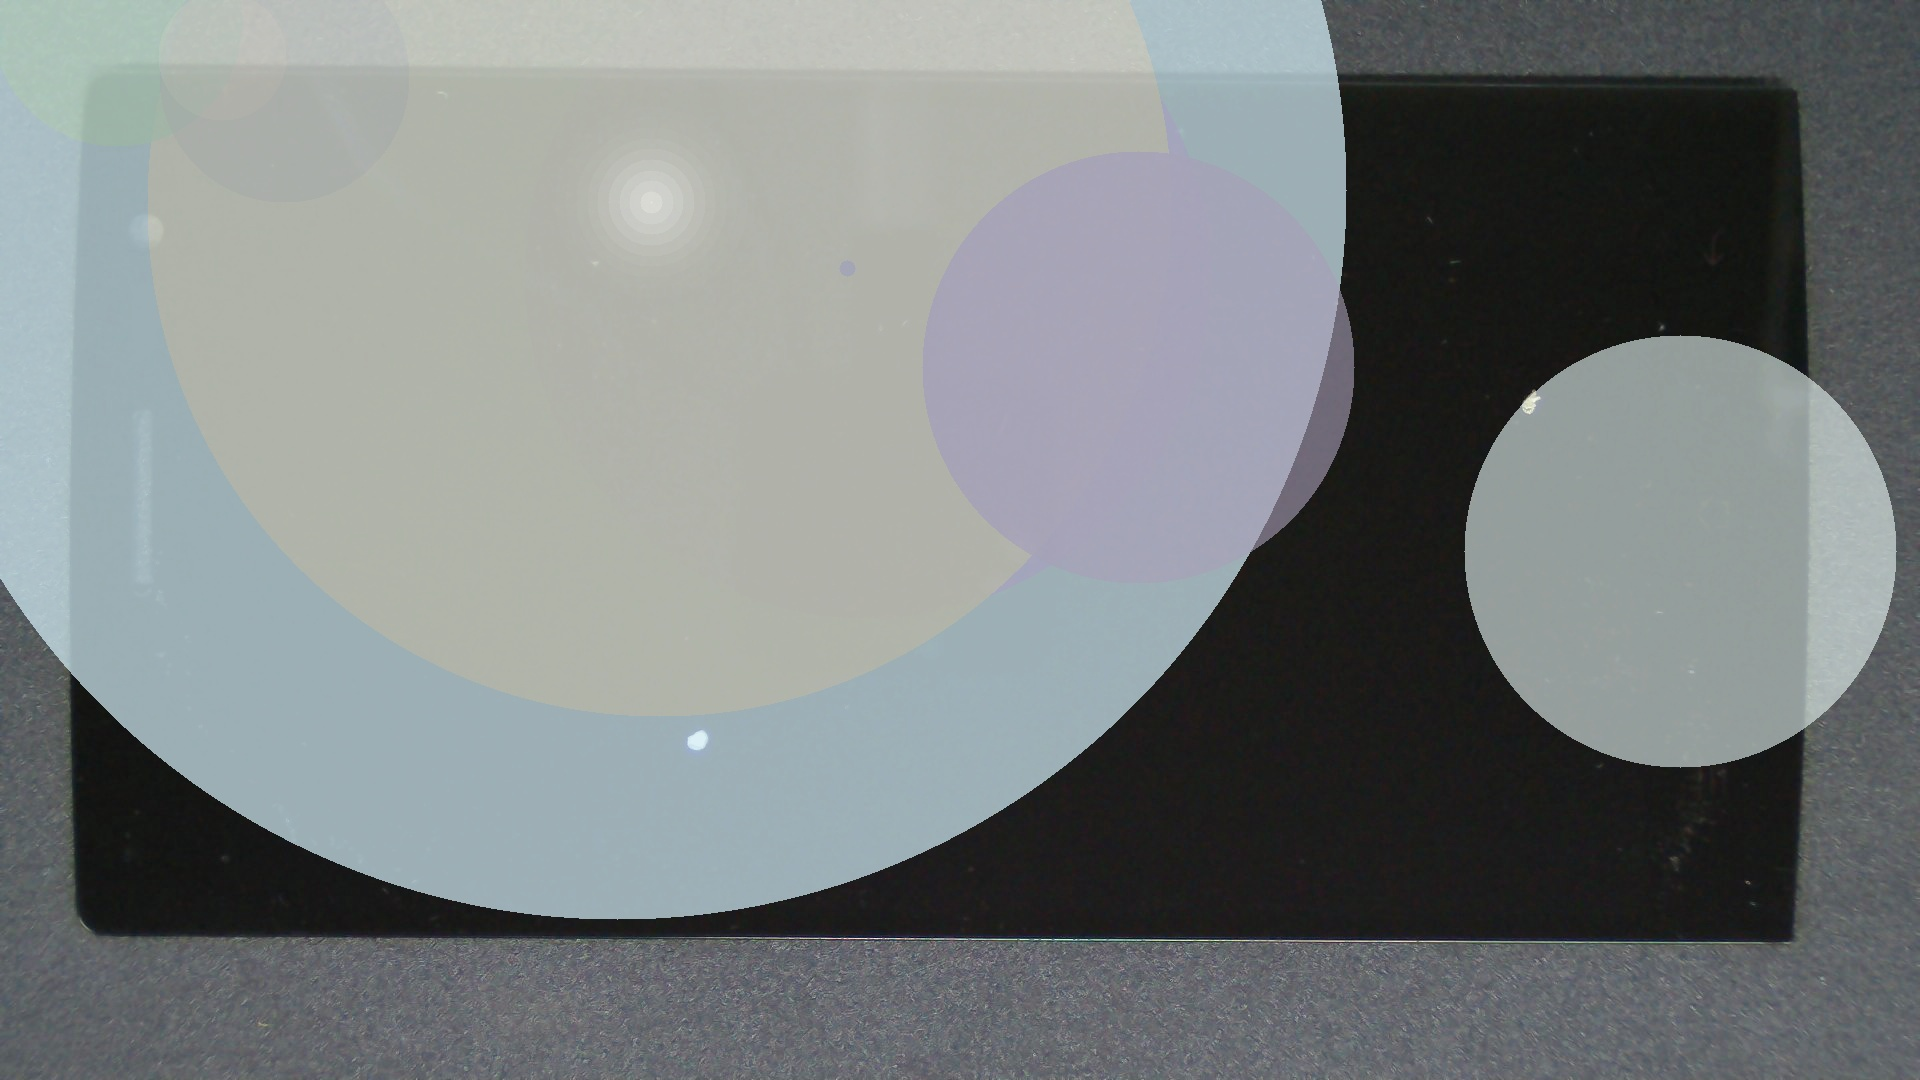oil: (351, 363, 1048, 1080), (766, 194, 1920, 583)
